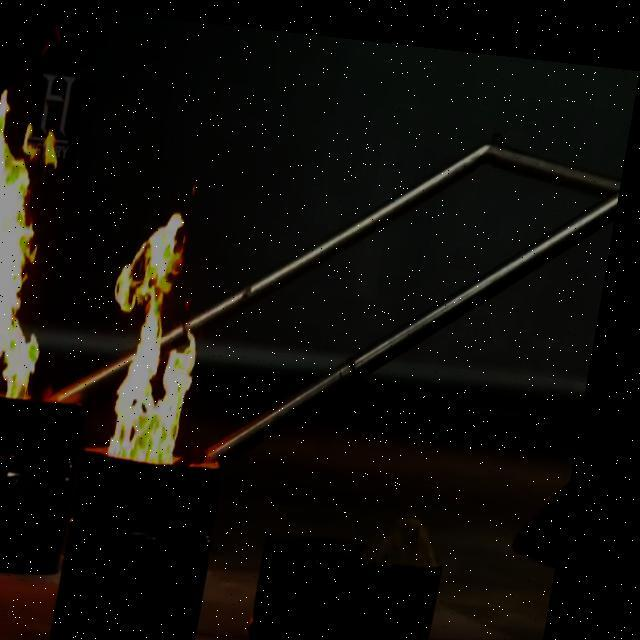Fire: (0, 84, 113, 433), (105, 190, 248, 461)
